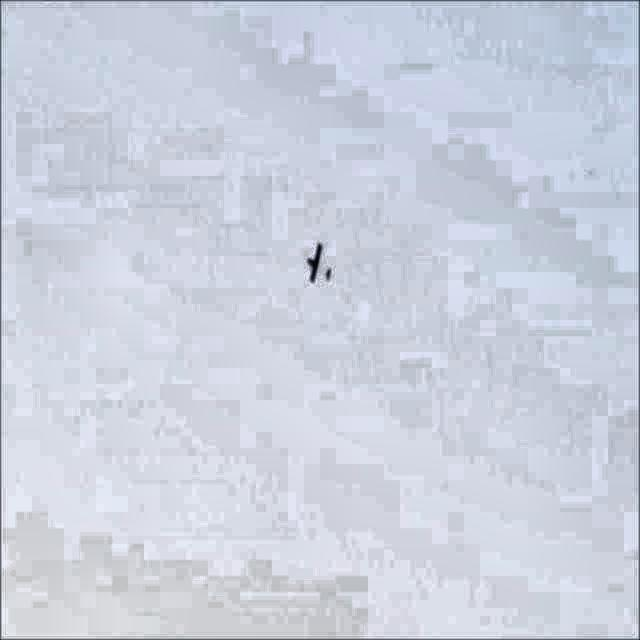iha: (296, 225, 344, 287)
